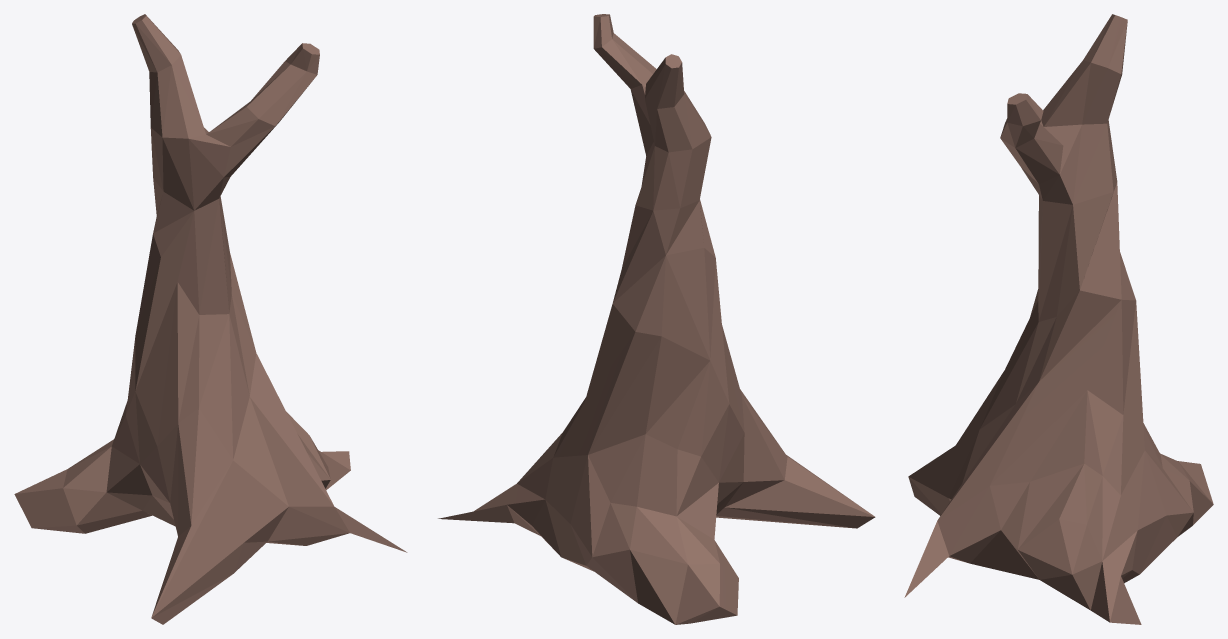
The model's file is fantasy_plant_009.fbx.
3 renders of one model, left to right at view 1: azimuth 30°, elevation 25°; view 2: azimuth 150°, elevation 25°; view 3: azimuth 270°, elevation 25°, orthographic. The views are drawn at different scales.
Visible parts, largest first — view 1: fantasy_plant.009; view 2: fantasy_plant.009; view 3: fantasy_plant.009.
Boxes of the visible parts, left/top/right/bottom form: fantasy_plant.009: left=14, top=14, right=407, bottom=624; fantasy_plant.009: left=438, top=14, right=875, bottom=624; fantasy_plant.009: left=904, top=14, right=1213, bottom=624.
Bounding box in the file's own units: 408 × 645 × 345.
1 material, 1 textured.
